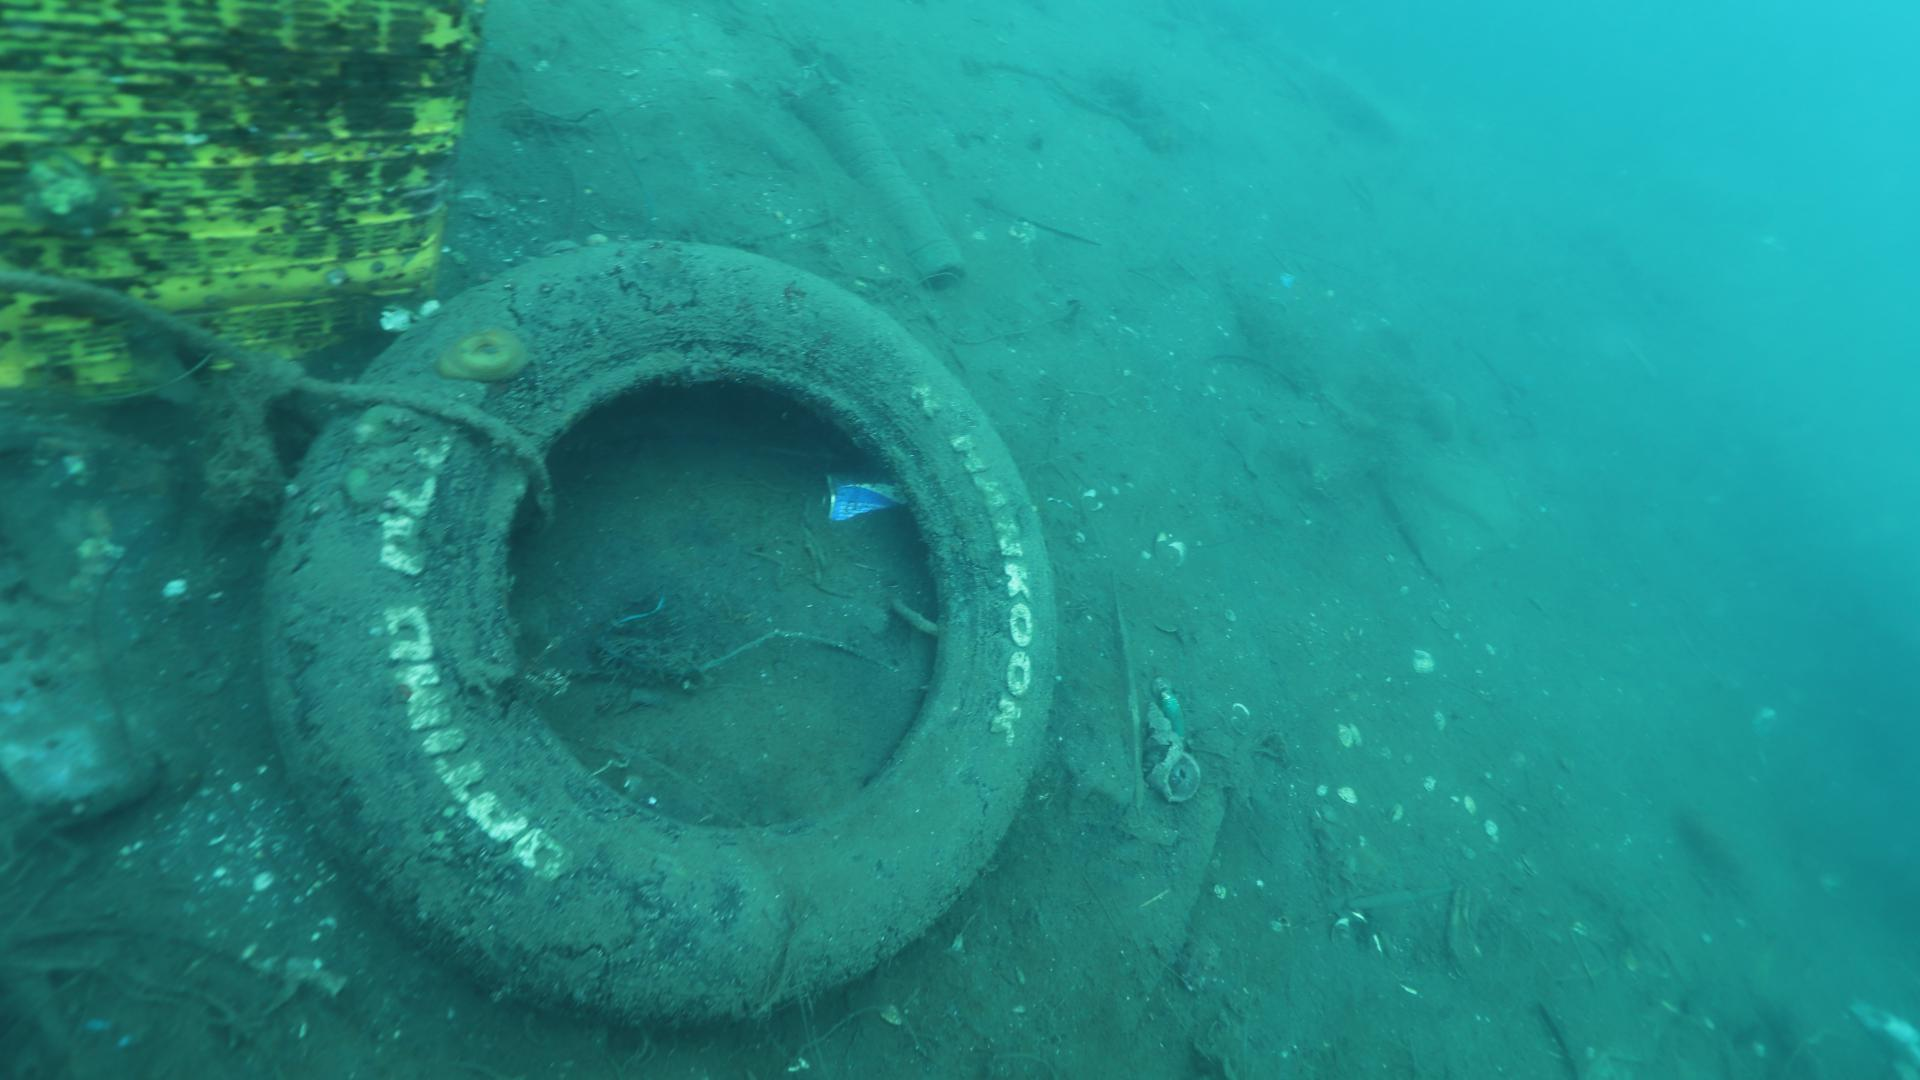bundle of ropes: (0, 262, 560, 533)
tire: (251, 232, 1069, 1031)
